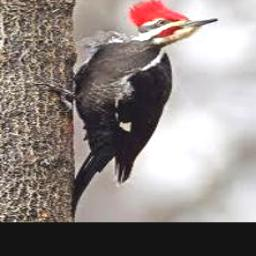Woodpecker: (35, 0, 217, 220)
